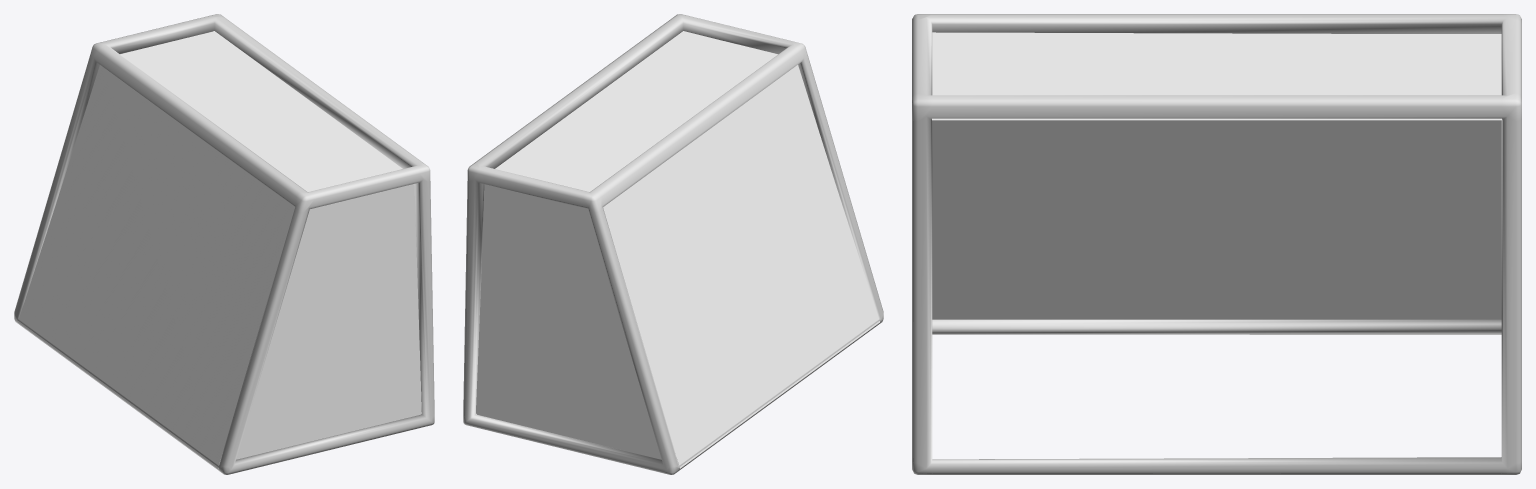
The model's file is Gates.fbx.
3 views of the same model, side by side, from view 1: azimuth 30°, elevation 25°; view 2: azimuth 150°, elevation 25°; view 3: azimuth 270°, elevation 25° (orthographic). The views are drawn at different scales.
Visible parts, largest first — view 1: Plane.001, Cube; view 2: Plane.001, Cube; view 3: Plane, Cube, Plane.001.
Part boxes in pixels (<box>): Plane.001: <box>18,31,421,468</box>; Cube: <box>14,14,434,474</box>; Plane.001: <box>476,31,879,468</box>; Cube: <box>463,14,883,474</box>; Plane: <box>932,118,1501,319</box>; Cube: <box>912,14,1521,474</box>; Plane.001: <box>932,32,1501,95</box>.
Bounding box in the file's own units: 515 × 602 × 892.
